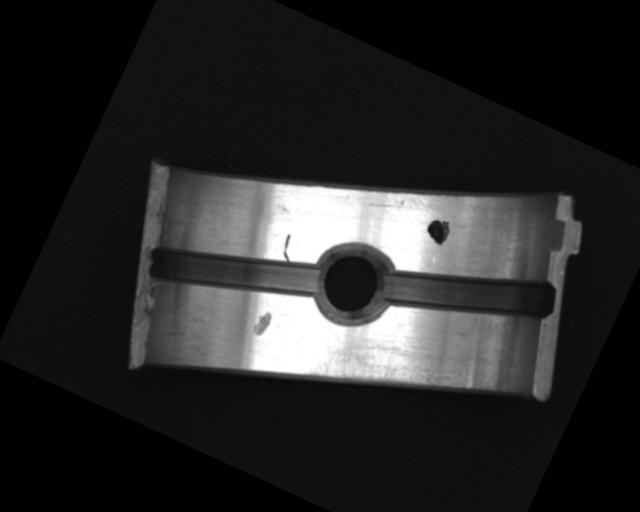blot: (421, 213, 455, 248)
bruise: (250, 306, 275, 340)
gap: (374, 220, 561, 363), (142, 203, 325, 342)
hole: (296, 231, 405, 339)
nick: (276, 233, 300, 263)
scratch: (300, 315, 456, 434)
